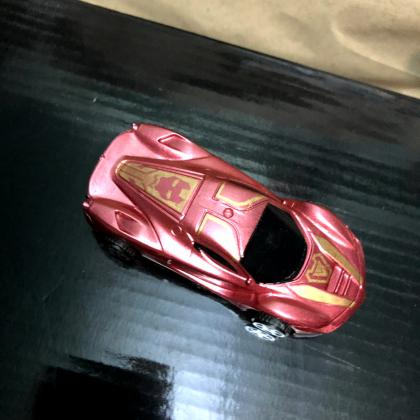Car: (81, 124, 367, 338)
